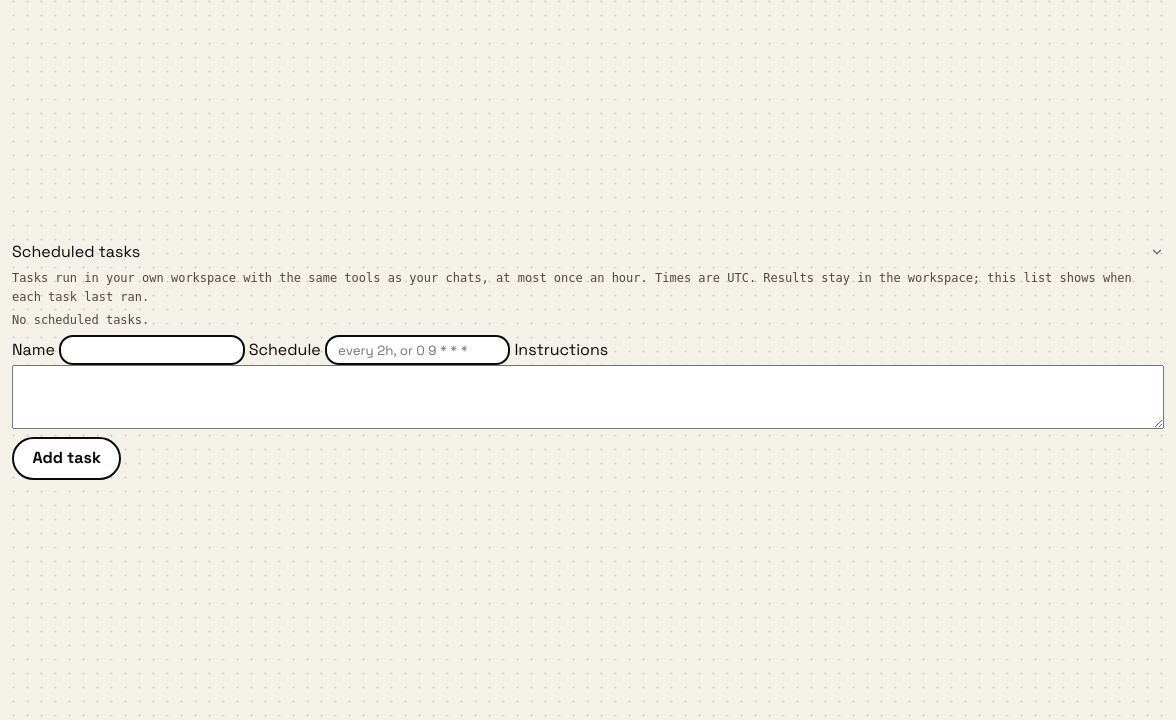
it: scheduled tasks › explains a schedule that runs too often
Expected: the text "No scheduled tasks." is shown, top-left (12, 313), bottom-right (149, 327)
Type "Ping" into the field labelled "Name".
click(152, 350); type("Ping")  # box top-left (59, 335), bottom-right (245, 365)
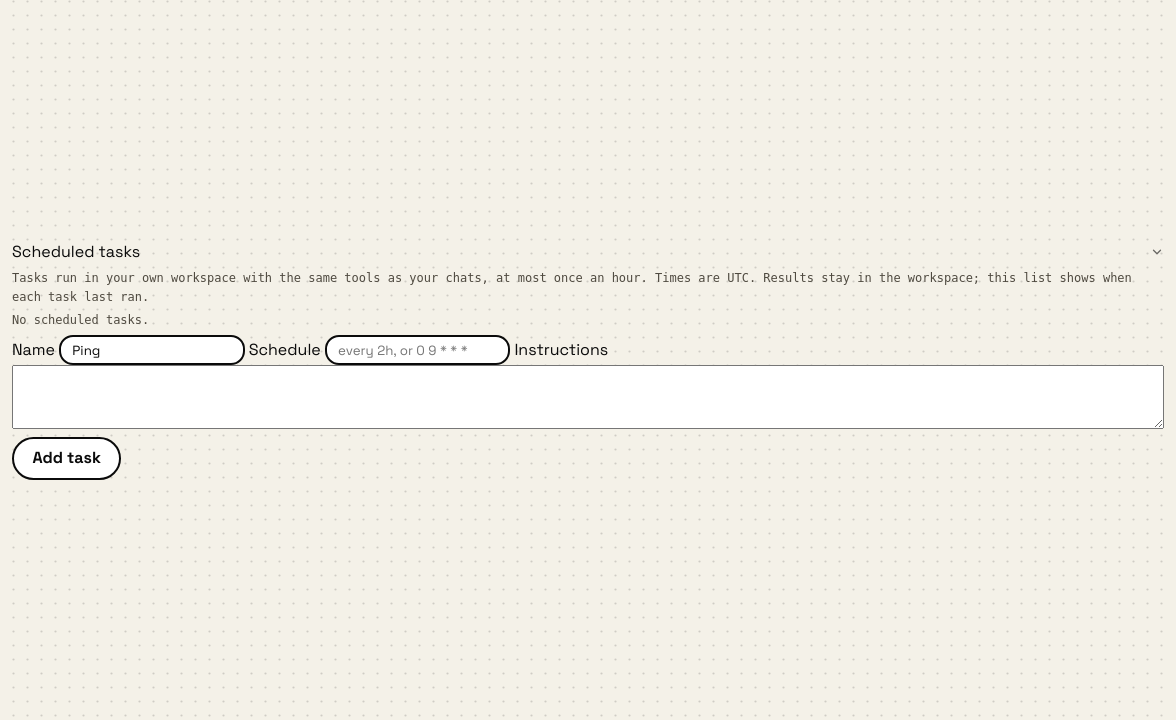
Type "every 5m" into the field labelled "Schedule".
click(418, 350); type("every 5m")  # box top-left (325, 335), bottom-right (510, 365)
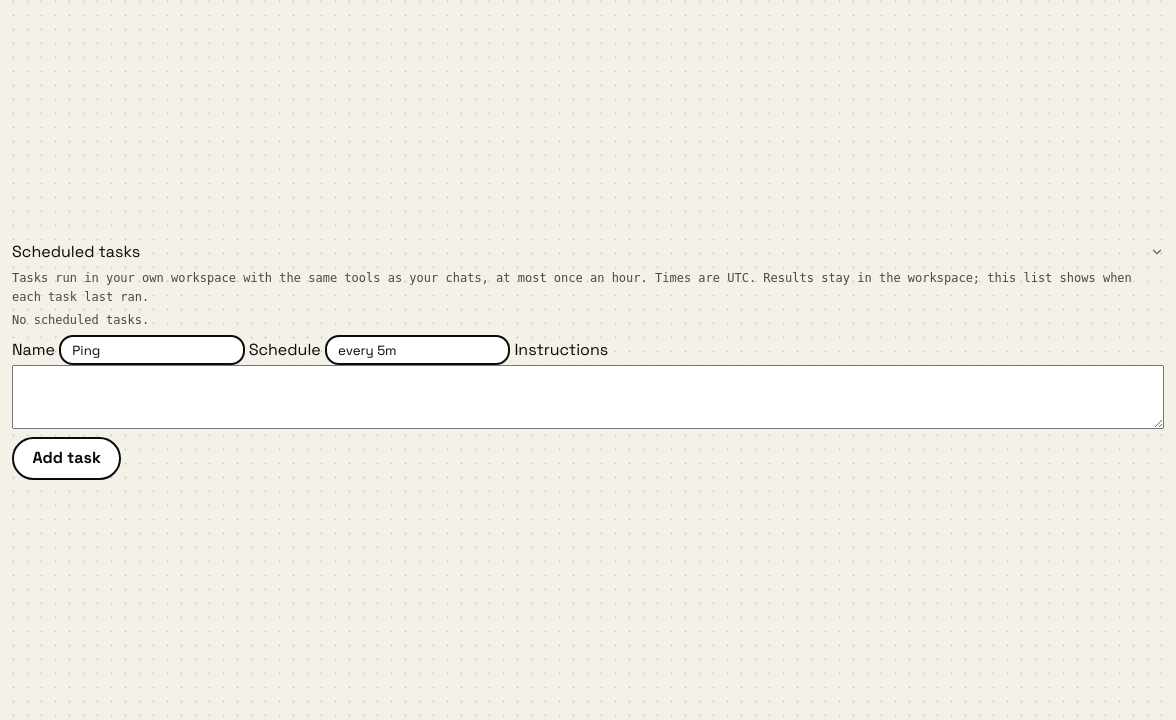
Type "ping" into the text box labelled "Instructions".
click(588, 397); type("ping")  # box top-left (12, 365), bottom-right (1164, 429)
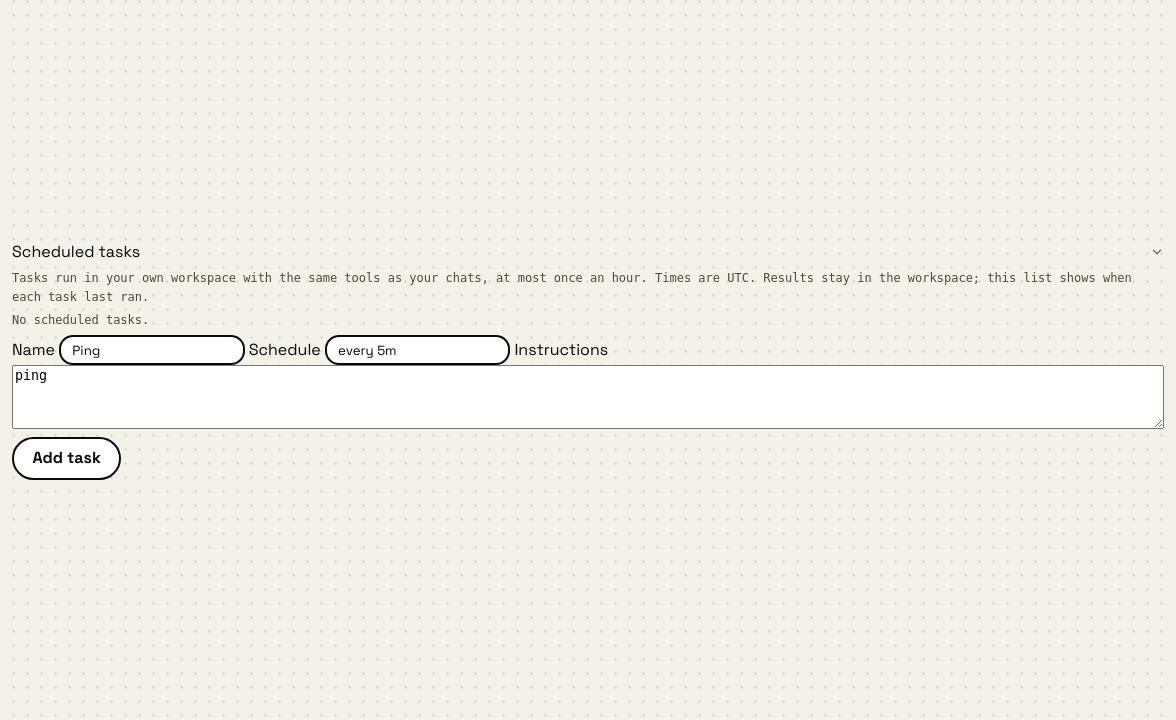
Click the button "Add task".
click(67, 459)  # box top-left (12, 437), bottom-right (121, 480)
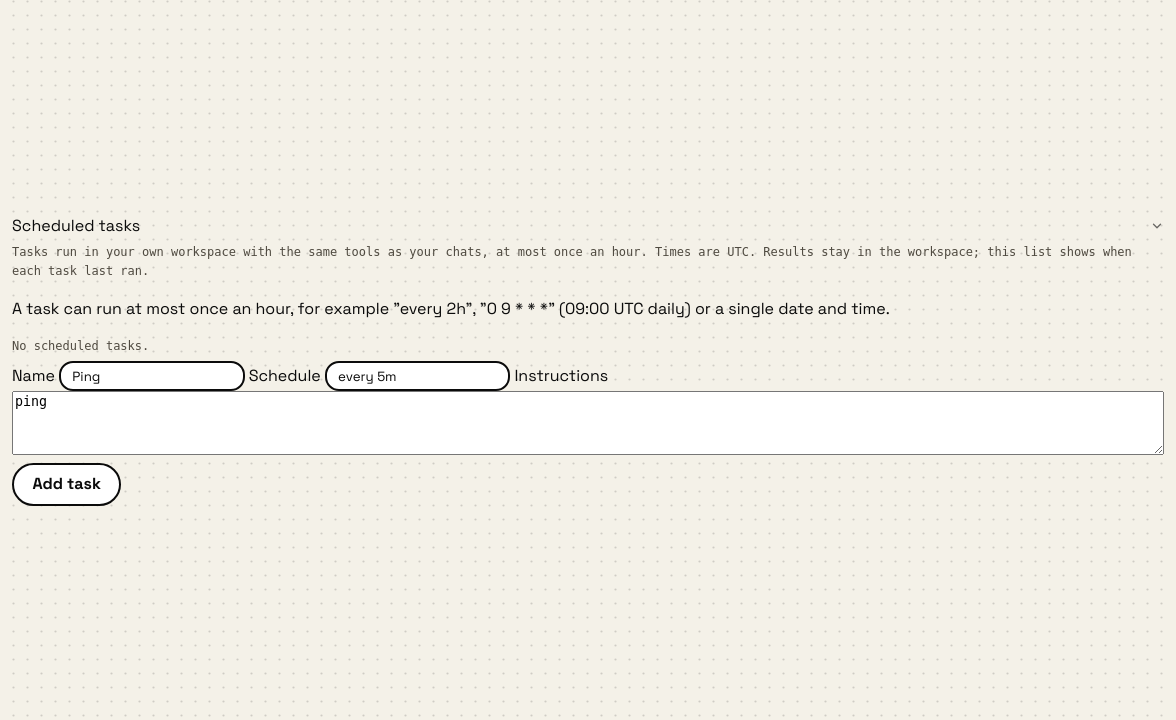
Result: the message shows "at most once an hour" at top-left (12, 298), bottom-right (890, 318)
